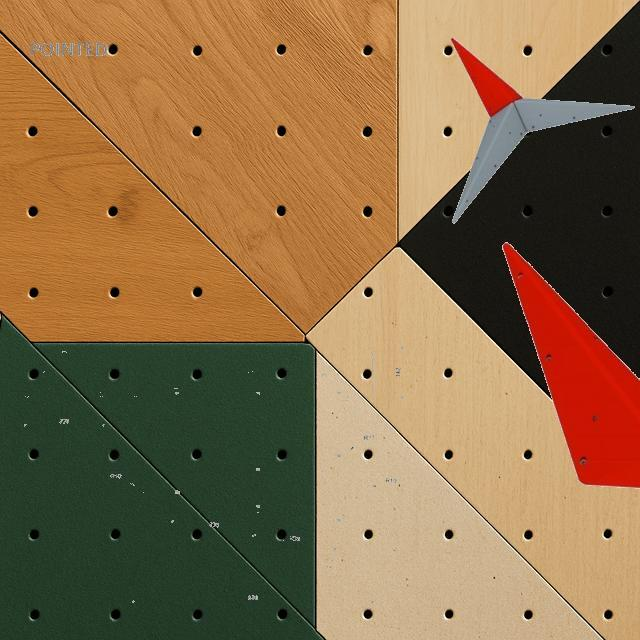Volume: (502, 242, 638, 488), (451, 102, 527, 224), (449, 36, 523, 116), (514, 98, 636, 132)
